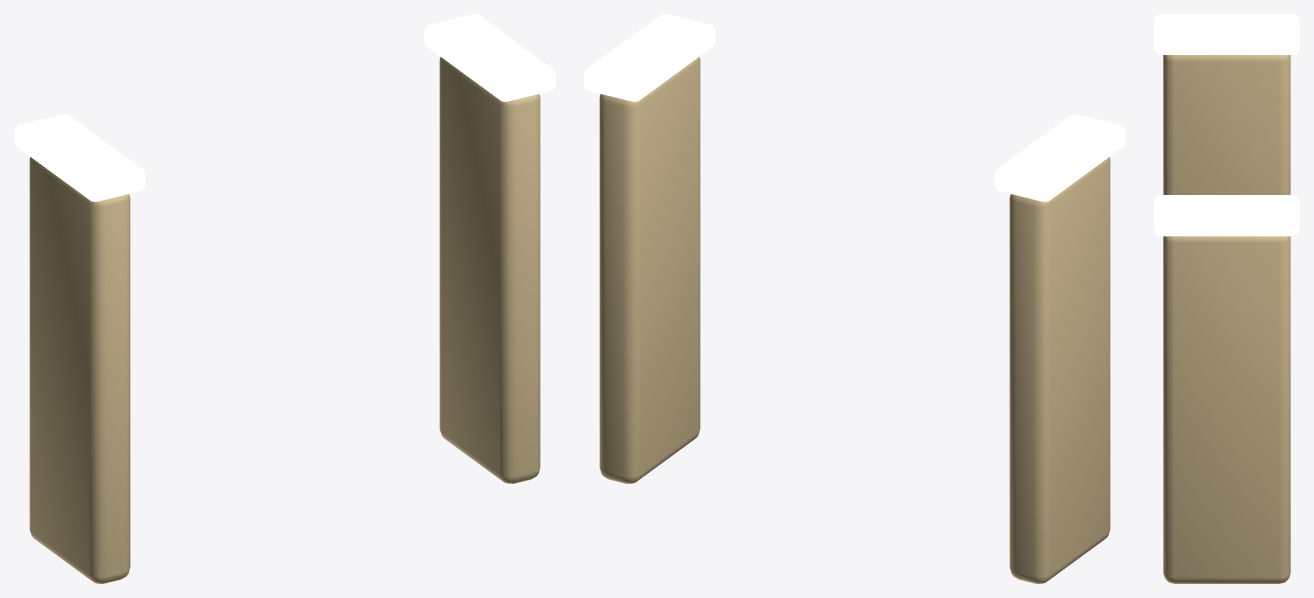
File: GatePosts.fbx
The picture shows the model from 3 angles, left to right: view 1: azimuth 30°, elevation 25°; view 2: azimuth 150°, elevation 25°; view 3: azimuth 270°, elevation 25°; orthographic projection. The views are drawn at different scales.
Parts seen in each view (by area): view 1: PostR, PostL, CapL, CapR; view 2: PostR, PostL, CapL, CapR; view 3: PostR, PostL, CapR, CapL.
Boxes of the visible parts, x1,y1,x2,y2 form: PostR: (439,57,540,483); PostL: (29,157,130,583); CapL: (14,114,145,201); CapR: (424,14,555,101); PostR: (599,57,700,483); PostL: (1009,157,1110,583); CapL: (994,114,1125,201); CapR: (584,14,715,101); PostR: (1163,236,1290,583); PostL: (1163,55,1290,194); CapR: (1154,195,1299,236); CapL: (1154,14,1299,54).
Size of the model in its own units: 1.07 by 0.905 by 0.32.
